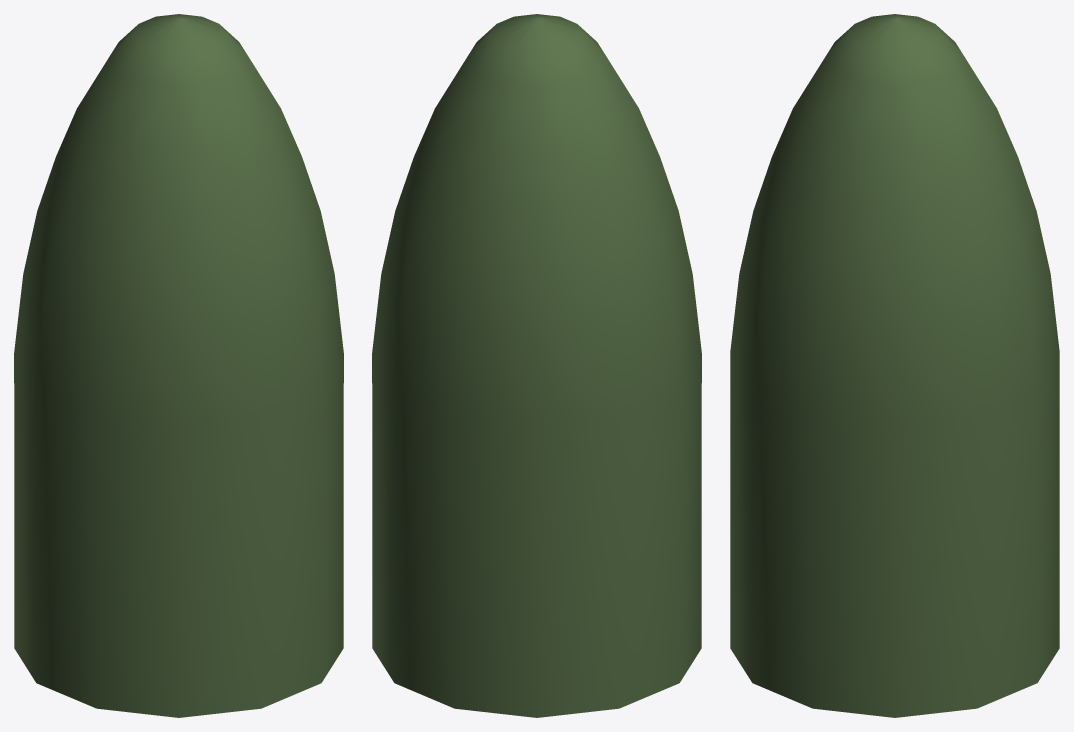
The model's file is Bamboo_Analytical_0.obj.
3 renders of one model, left to right at view 1: azimuth 30°, elevation 25°; view 2: azimuth 150°, elevation 25°; view 3: azimuth 270°, elevation 25°, orthographic.
Visible parts, largest first — view 1: AnalyticalCrown; view 2: AnalyticalCrown; view 3: AnalyticalCrown.
Part boxes in pixels (x1,y1,x2,y2): AnalyticalCrown: (14,14,343,717); AnalyticalCrown: (372,14,701,717); AnalyticalCrown: (730,14,1059,717).
Size of the model in its own units: 3.32 by 7 by 3.32.
